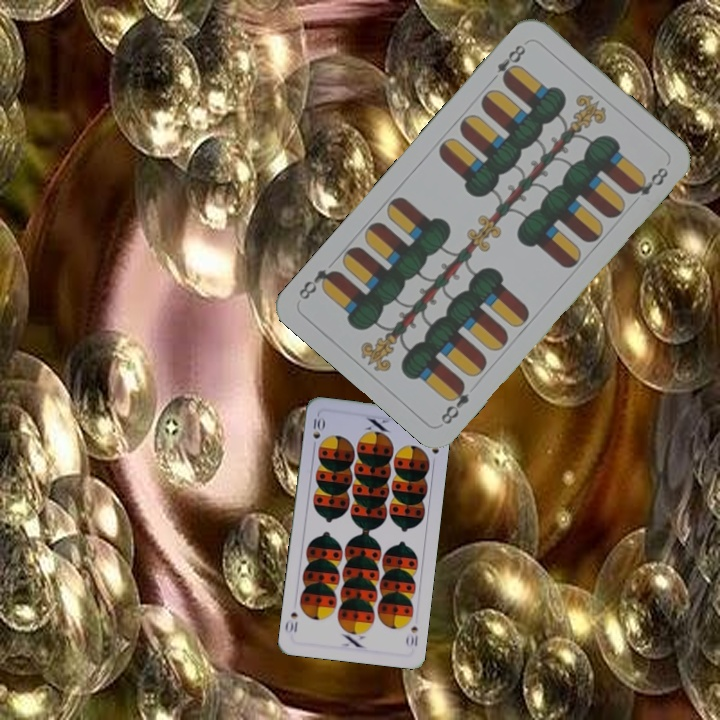E8: (486, 40, 529, 86), (437, 378, 472, 427)
S10: (309, 411, 326, 442), (402, 621, 420, 649)
